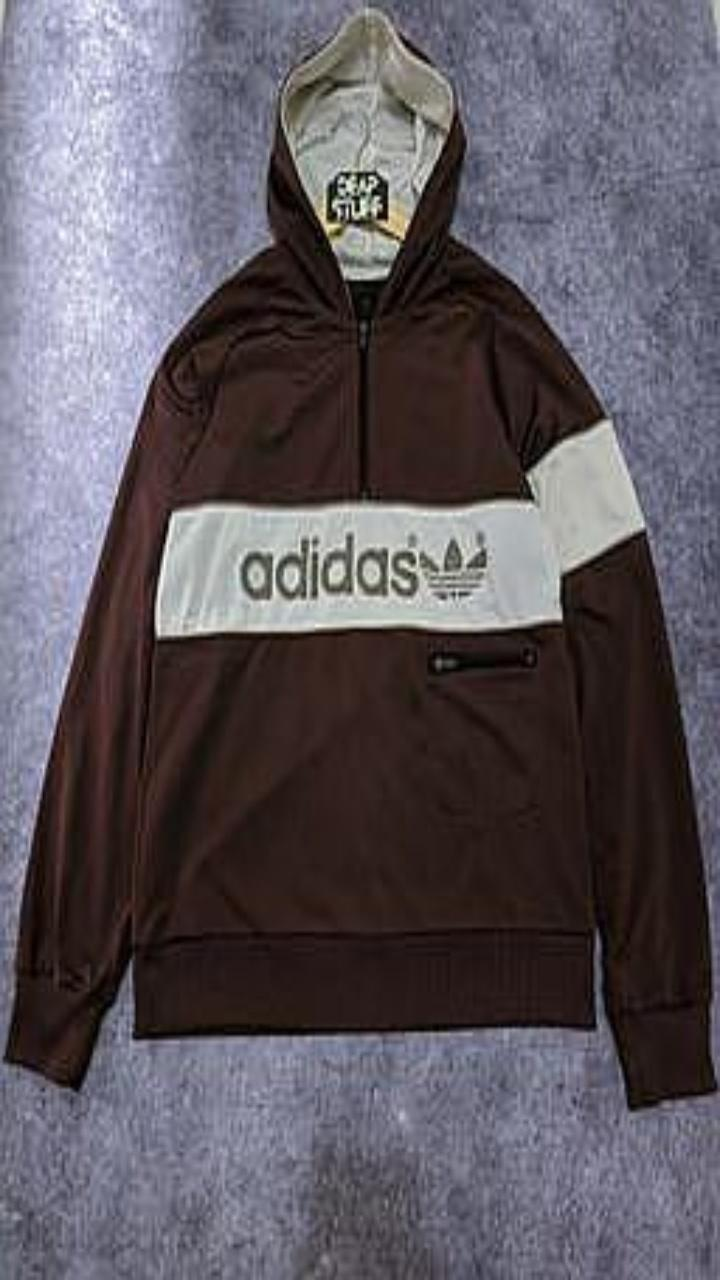Sports_Jacket: (4, 8, 716, 1107)
